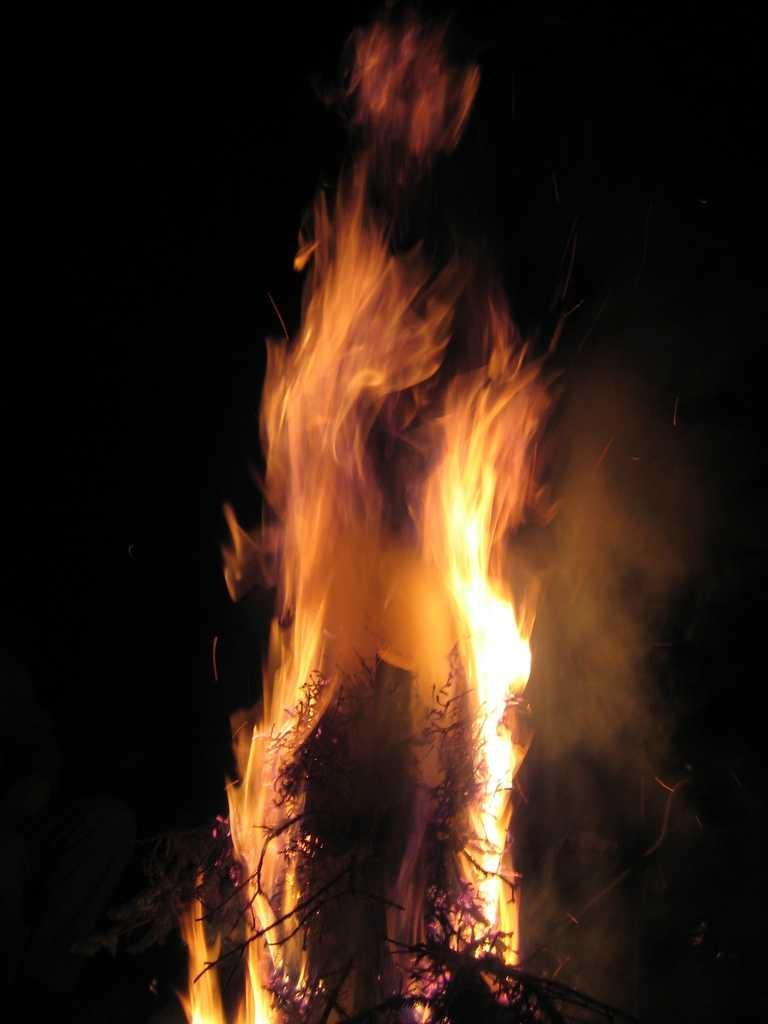fire: (472, 607, 517, 705)
